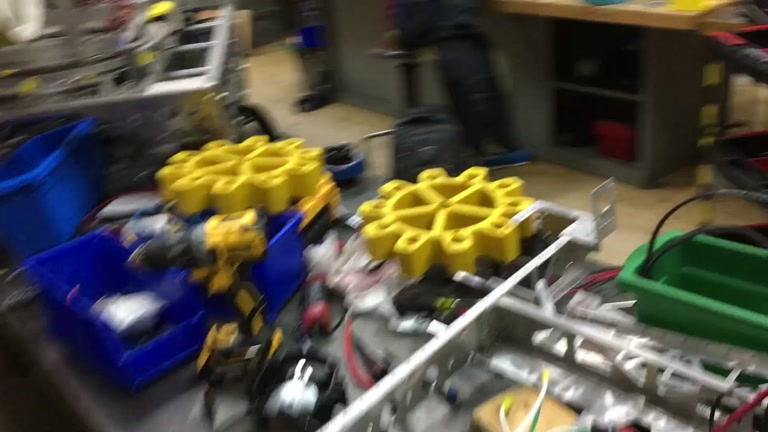gear: (360, 168, 528, 277), (155, 134, 323, 215)
